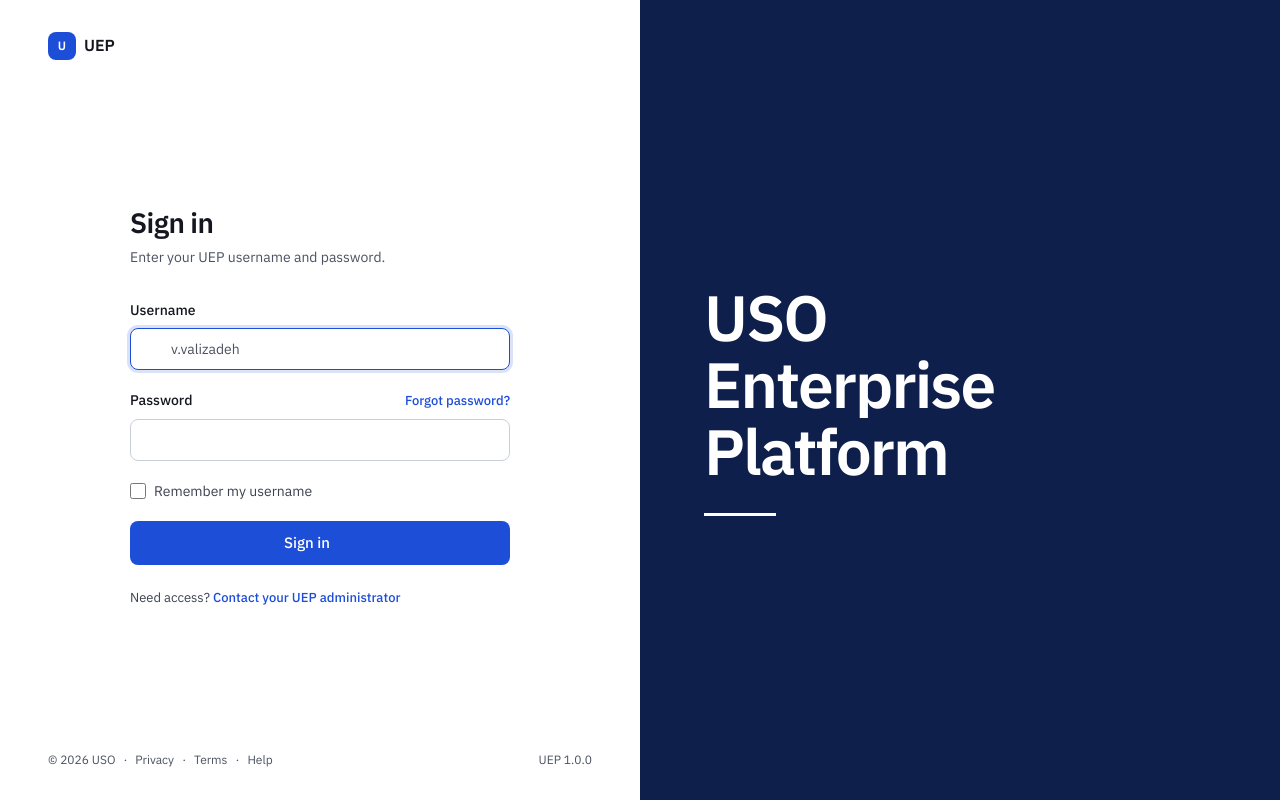
Test: refusals › says how long a lockout lasts
Type "sara" into the field labelled "Username".
click(320, 349); type("sara")  # box 130,328 -> 510,370
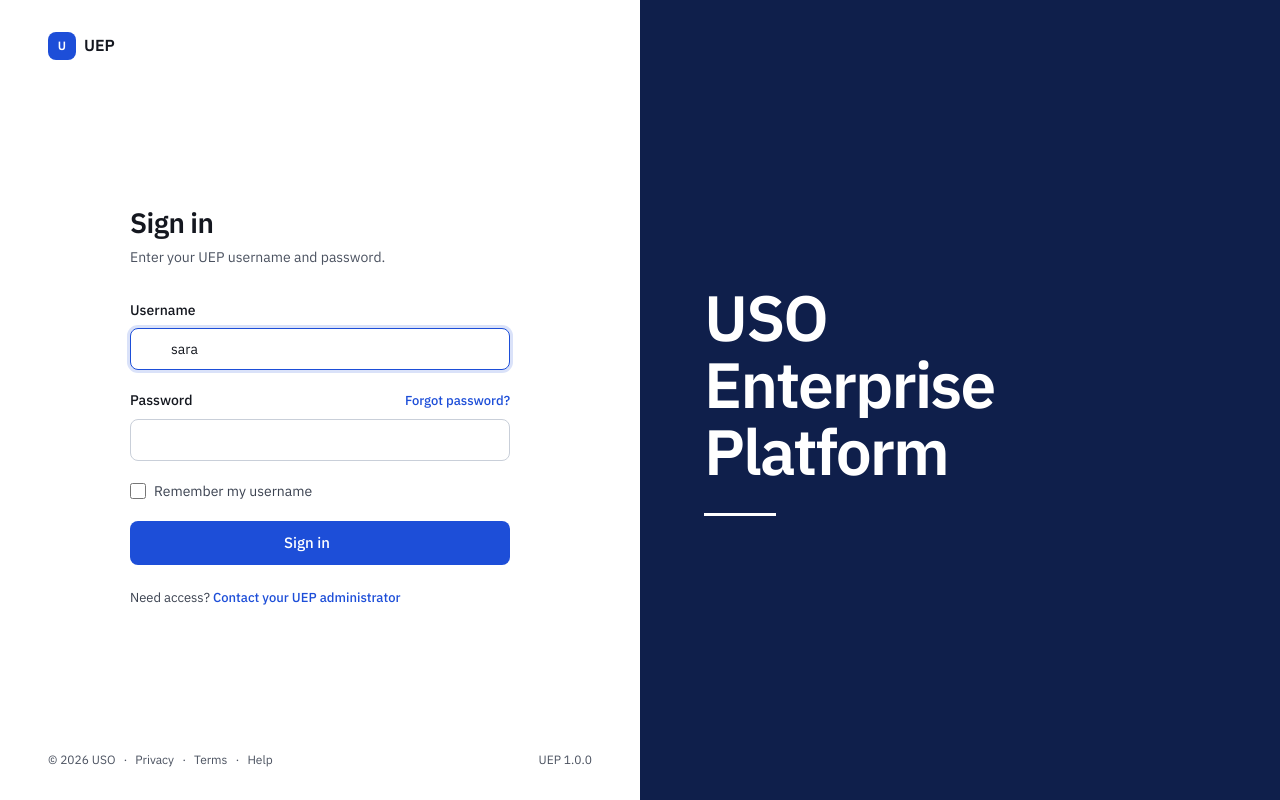
Type "pw" into the password field labelled "Password".
click(320, 440); type("pw")  # box 130,419 -> 510,461
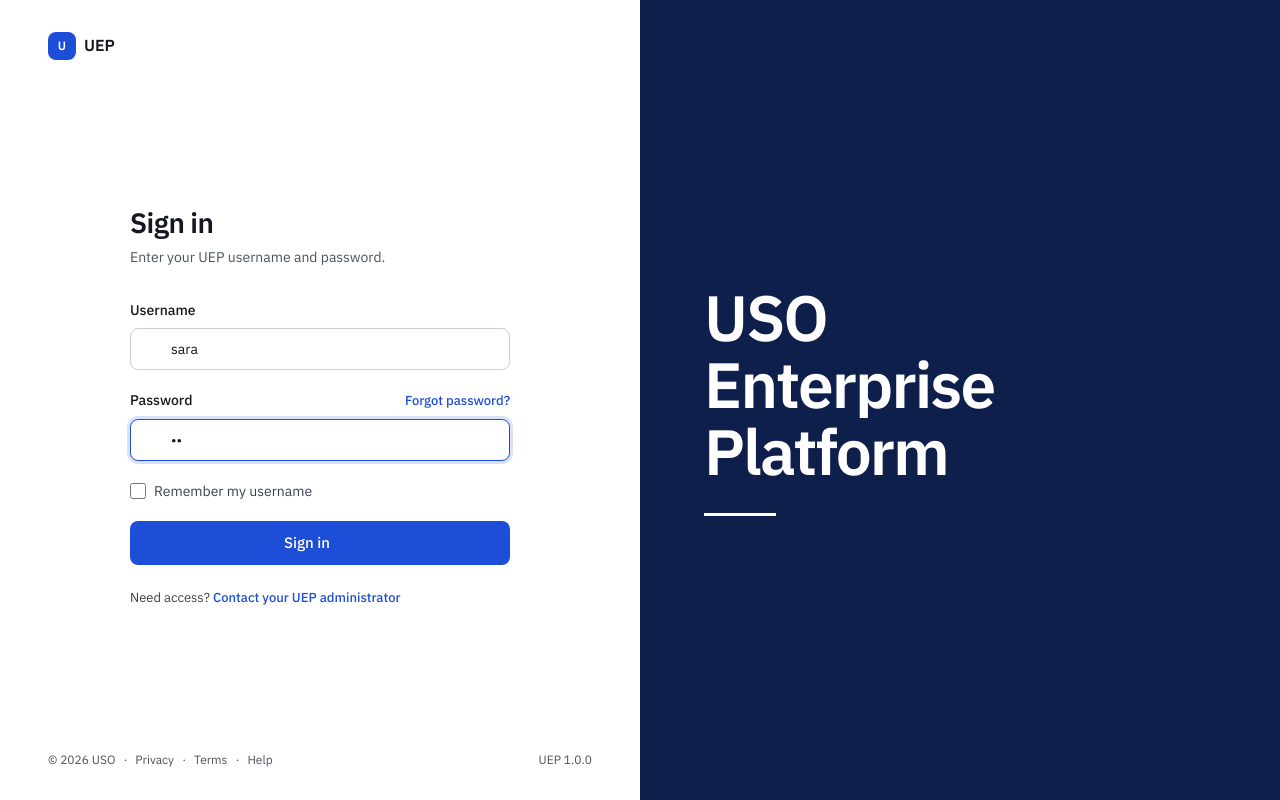
Click the button "Sign in".
click(320, 543)  # box 130,521 -> 510,565
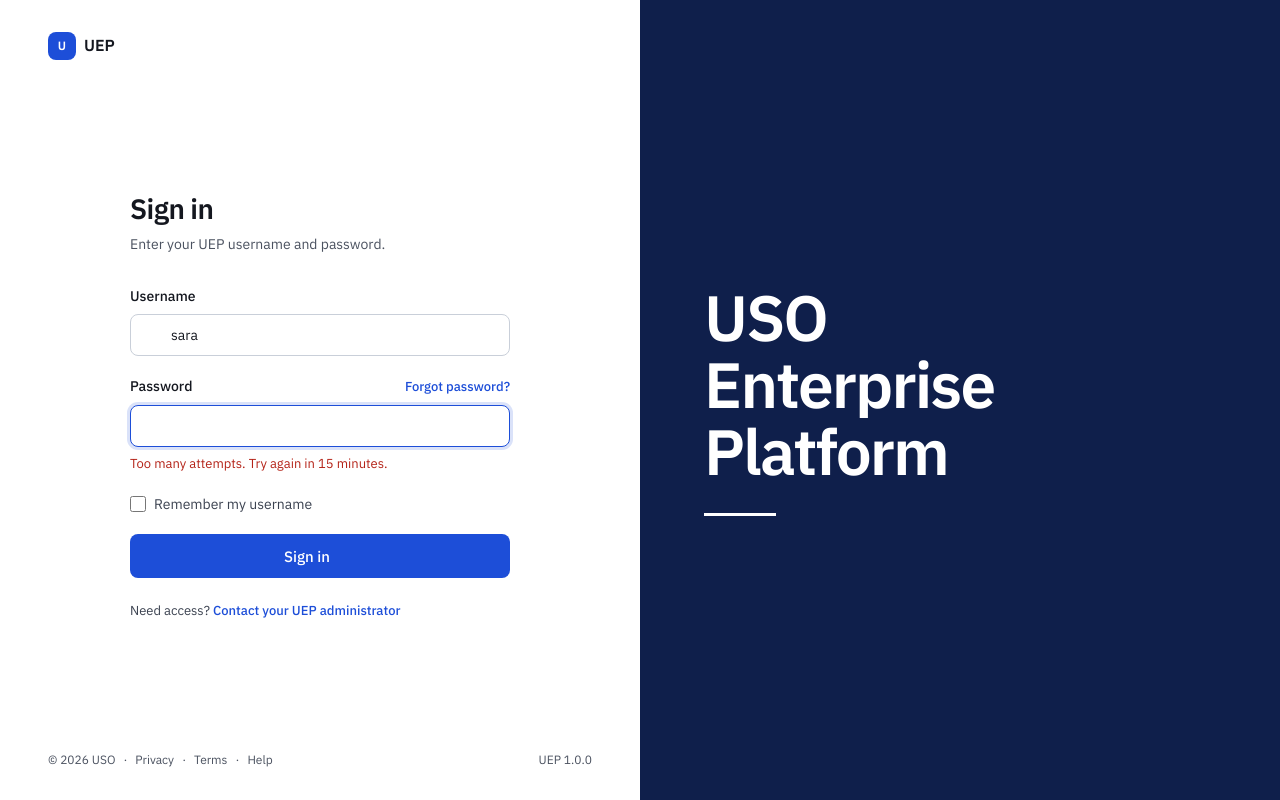
Expected: the message reads "Too many attempts. Try again in 15 minutes.", 130,455 -> 388,472
